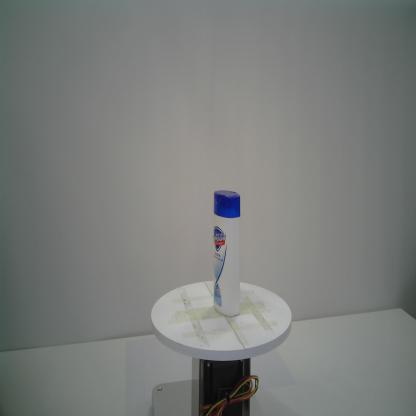Personal Hygiene: (212, 190, 241, 318)
